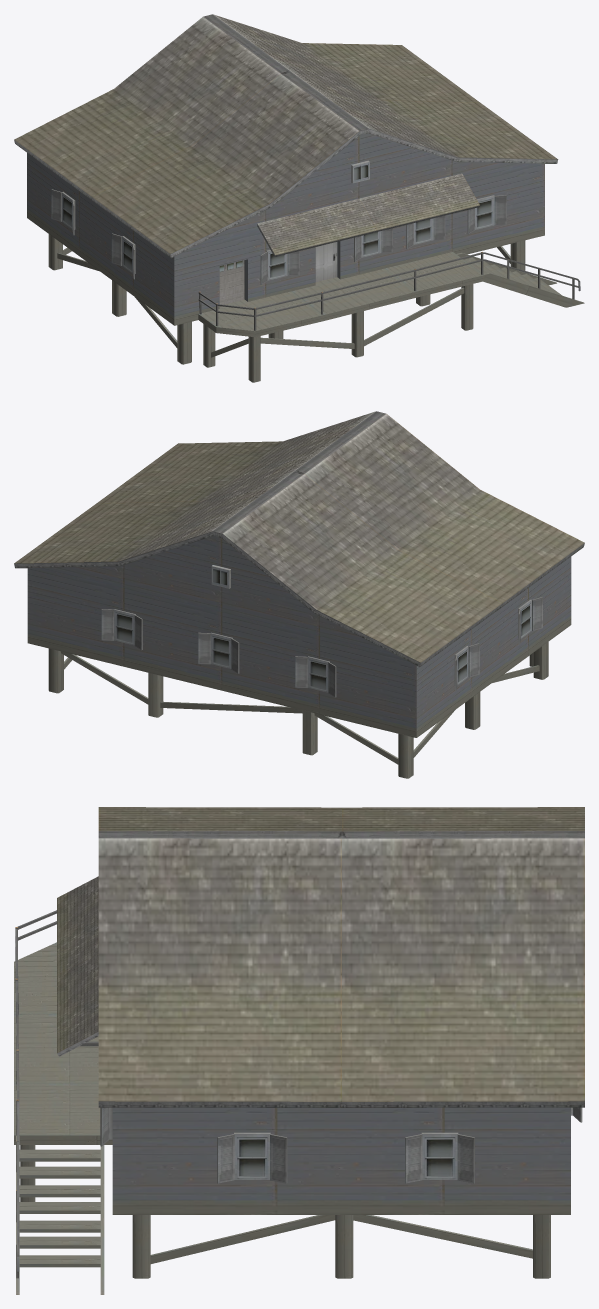
File: rural-wood-1.lod0.glb
3 renders of one model, top to bottom at view 1: azimuth 30°, elevation 25°; view 2: azimuth 150°, elevation 25°; view 3: azimuth 270°, elevation 25°, orthographic. The views are drawn at different scales.
Visible parts, largest first — view 1: Rural_WoodenBuilding_1_Rural_Housetrim_1_0, Rural_WoodenBuilding_1_Rural_Walltrim_1_0; view 2: Rural_WoodenBuilding_1_Rural_Housetrim_1_0, Rural_WoodenBuilding_1_Rural_Walltrim_1_0; view 3: Rural_WoodenBuilding_1_Rural_Housetrim_1_0, Rural_WoodenBuilding_1_Rural_Walltrim_1_0.
Part boxes in pixels (x1,y1,x2,y2): Rural_WoodenBuilding_1_Rural_Housetrim_1_0: [14, 14, 580, 330]; Rural_WoodenBuilding_1_Rural_Walltrim_1_0: [27, 133, 584, 382]; Rural_WoodenBuilding_1_Rural_Housetrim_1_0: [14, 411, 584, 697]; Rural_WoodenBuilding_1_Rural_Walltrim_1_0: [27, 536, 571, 778]; Rural_WoodenBuilding_1_Rural_Housetrim_1_0: [15, 807, 584, 1278]; Rural_WoodenBuilding_1_Rural_Walltrim_1_0: [14, 942, 570, 1294].
Bounding box in the file's own units: 21.07 × 10.44 × 17.27.
Materials: 2 (2 with a texture image).
